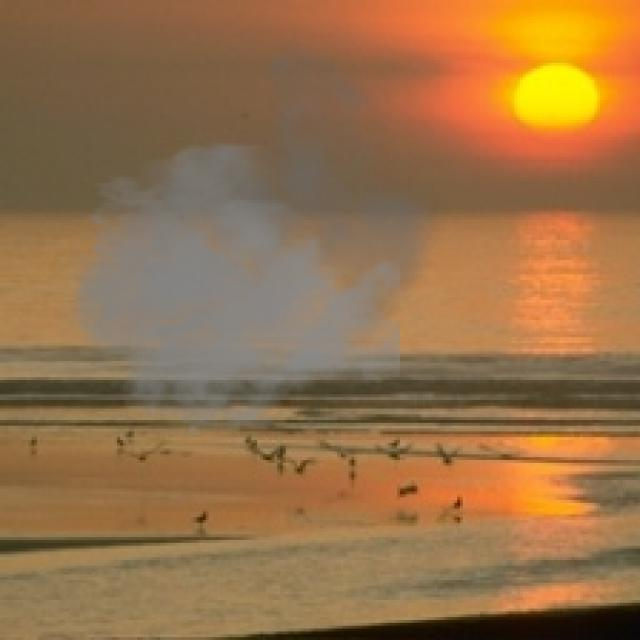smoke: (46, 37, 448, 440)
